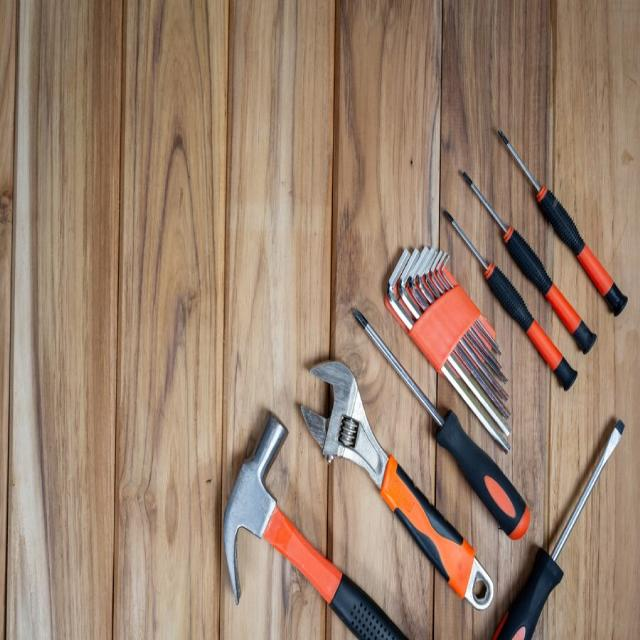Screwdriver: (354, 312, 530, 540), (492, 420, 624, 640), (498, 129, 628, 316), (462, 172, 596, 353), (444, 210, 578, 390)
